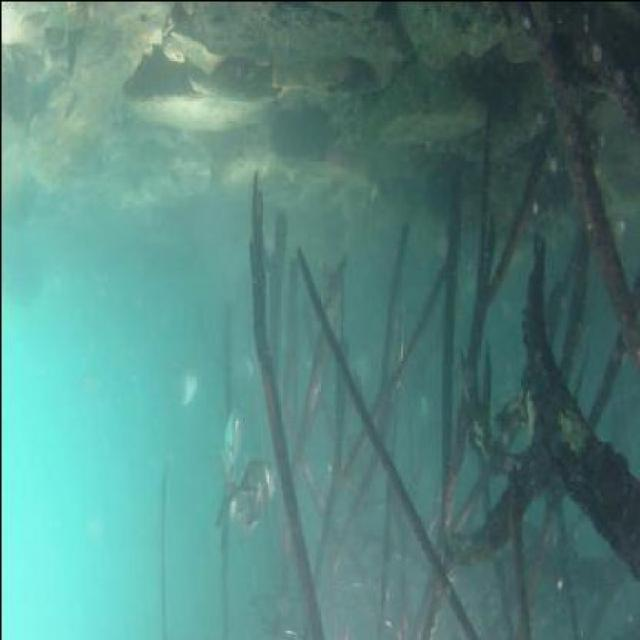Caranx_sexfasciatus_juvenile: (212, 452, 276, 536), (214, 462, 266, 547), (212, 396, 246, 467)
